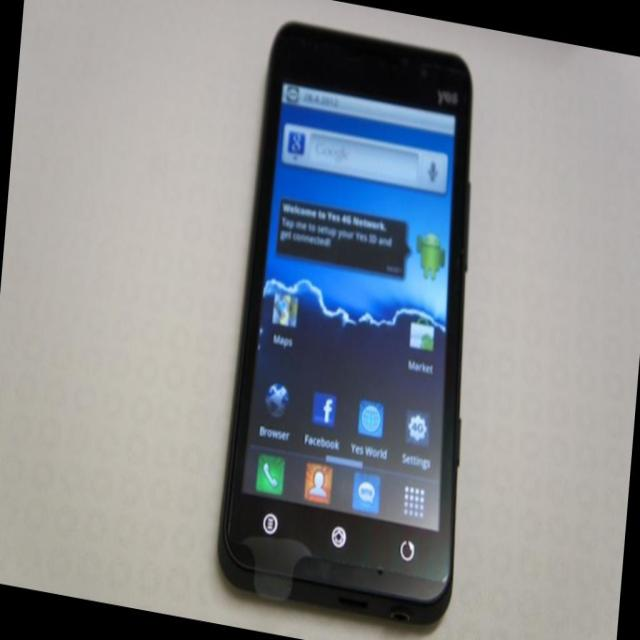handphone: (217, 19, 466, 614)
